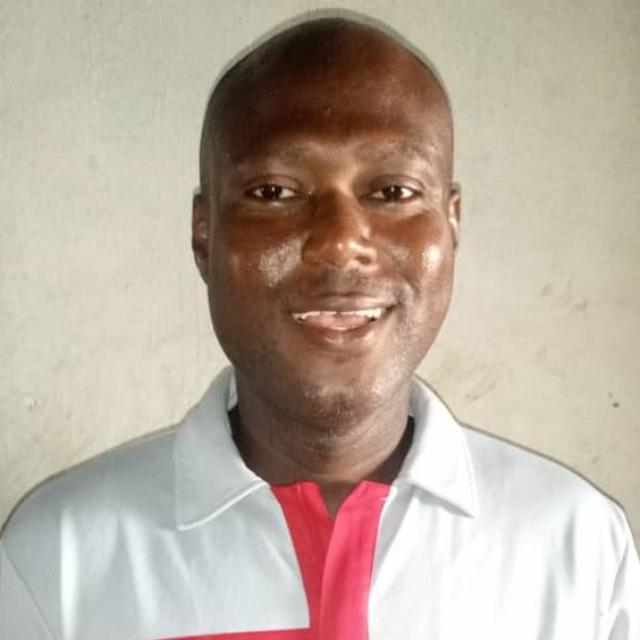happy: (185, 10, 465, 431)
